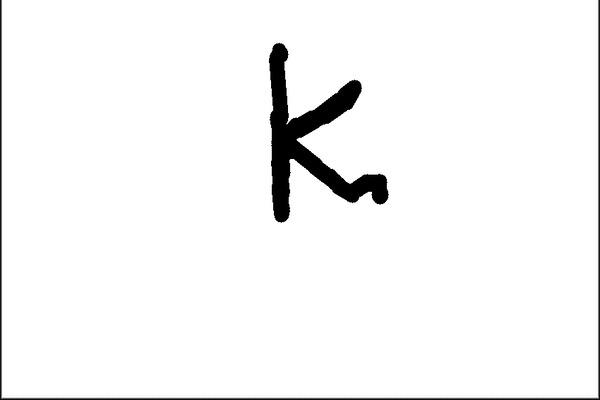K: (260, 35, 395, 230)
